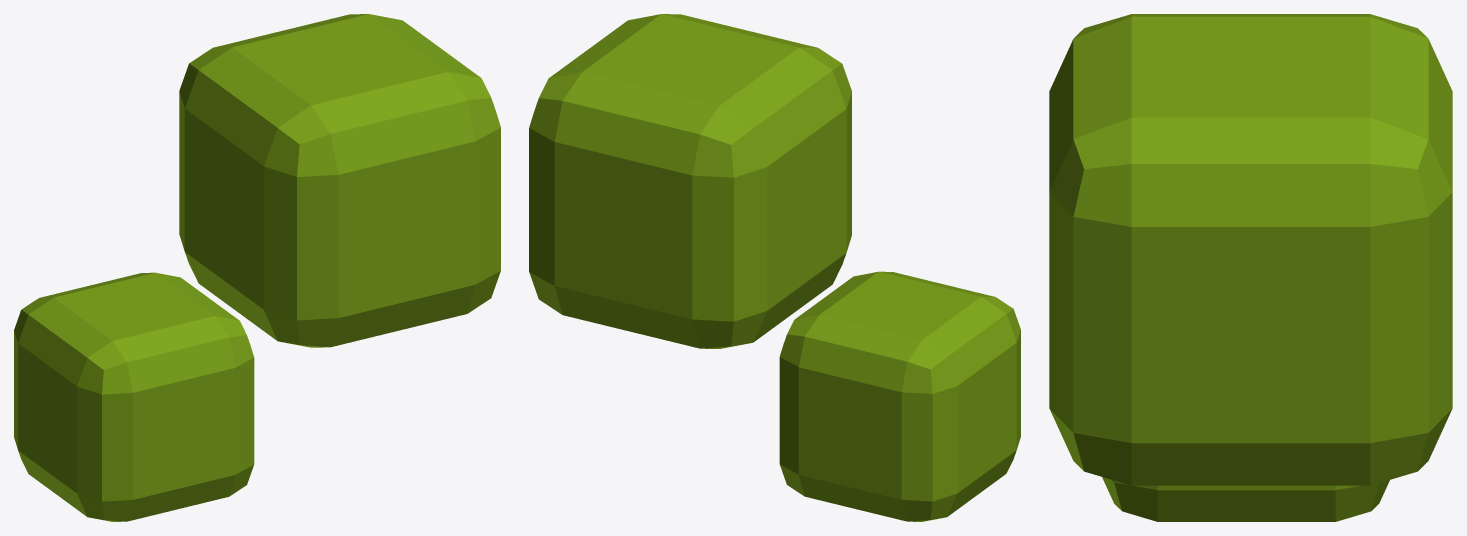
Rendered from tree-summer-leaves-012.glb.
3 views of the same model, side by side, from view 1: azimuth 30°, elevation 25°; view 2: azimuth 150°, elevation 25°; view 3: azimuth 270°, elevation 25° (orthographic). The views are drawn at different scales.
Parts seen in each view (by area): view 1: Cube.002_235; view 2: Cube.002_235; view 3: Cube.002_235.
Part boxes in pixels (box(x1,y1,x2,y2)): Cube.002_235: box(14, 14, 500, 521); Cube.002_235: box(529, 14, 1020, 521); Cube.002_235: box(1049, 14, 1452, 521).
Bounding box in the file's own units: 1.15 × 1.01 × 0.6486.
